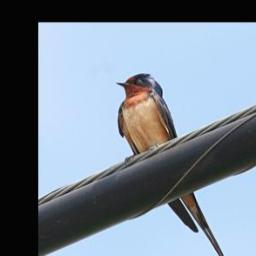Swallow: (115, 71, 228, 256)
